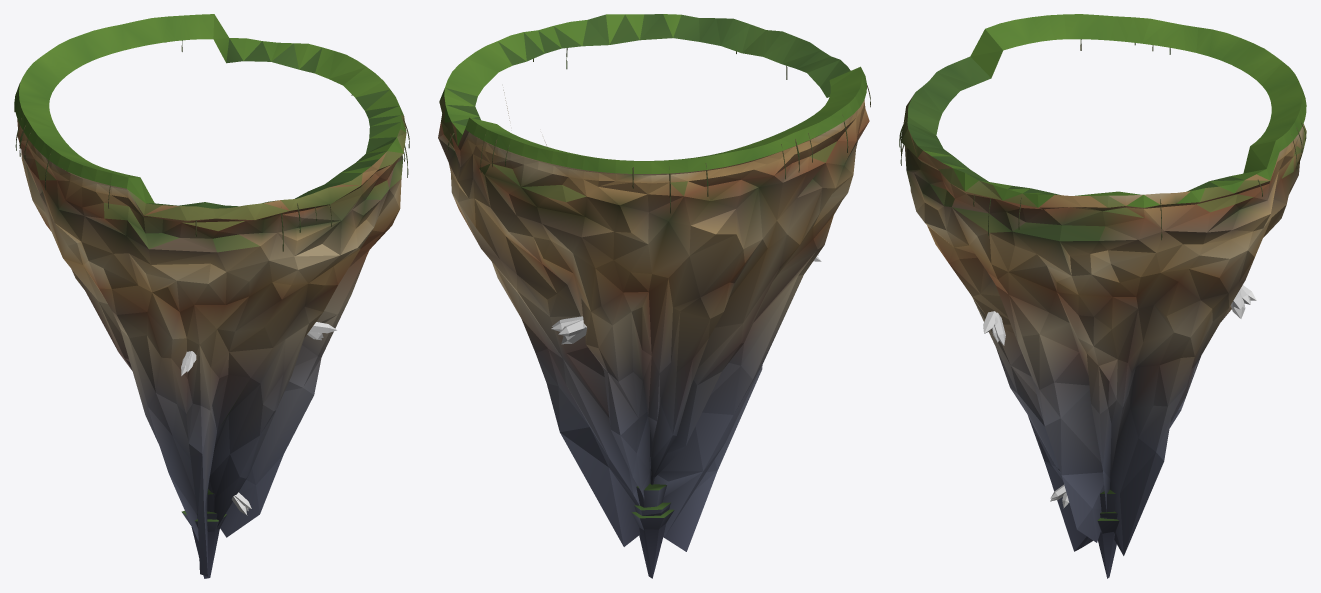
File: IsletRock.glb
The picture shows the model from 3 angles, left to right: view 1: azimuth 30°, elevation 25°; view 2: azimuth 150°, elevation 25°; view 3: azimuth 270°, elevation 25°; orthographic projection. The views are drawn at different scales.
Parts seen in each view (by area): view 1: Rock.001, RockCrystals.001, RockVines.001; view 2: Rock.001, RockCrystals.001, RockVines.001; view 3: Rock.001, RockCrystals.001.
Boxes of the visible parts, bbox=[...] form: Rock.001: bbox=[14, 14, 406, 578]; RockCrystals.001: bbox=[181, 322, 336, 515]; RockVines.001: bbox=[14, 40, 409, 251]; Rock.001: bbox=[438, 14, 869, 578]; RockCrystals.001: bbox=[551, 254, 821, 344]; RockVines.001: bbox=[447, 48, 870, 213]; Rock.001: bbox=[901, 14, 1306, 578]; RockCrystals.001: bbox=[983, 285, 1256, 508].
Bounding box in the file's own units: 74.25 × 98.26 × 75.17.
